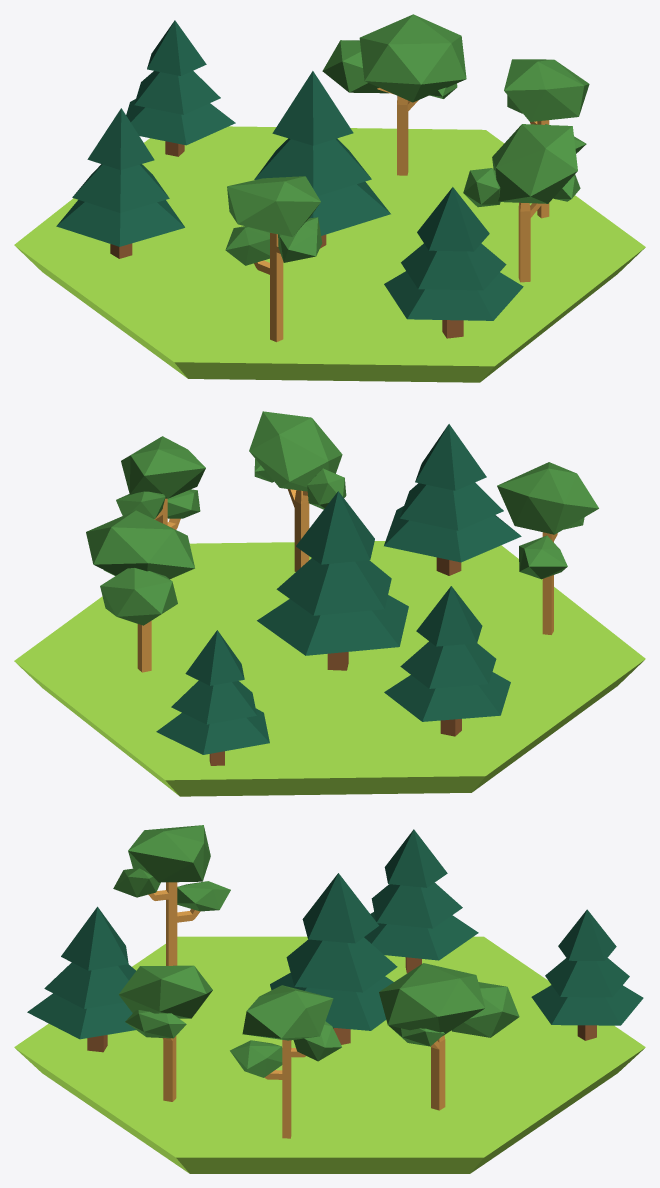
The model's file is G_F_mix_2.fbx.
The picture shows the model from 3 angles, top to bottom: view 1: azimuth 30°, elevation 25°; view 2: azimuth 150°, elevation 25°; view 3: azimuth 270°, elevation 25°; orthographic projection. The views are drawn at different scales.
Visible parts, largest first — view 1: G_F_mix.001; view 2: G_F_mix.001; view 3: G_F_mix.001.
Part boxes in pixels (left/top/right/bottom): G_F_mix.001: left=14, top=14, right=645, bottom=382; G_F_mix.001: left=14, top=411, right=645, bottom=796; G_F_mix.001: left=14, top=825, right=645, bottom=1173.
Bounding box in the file's own units: 3165 × 1298 × 3822.
